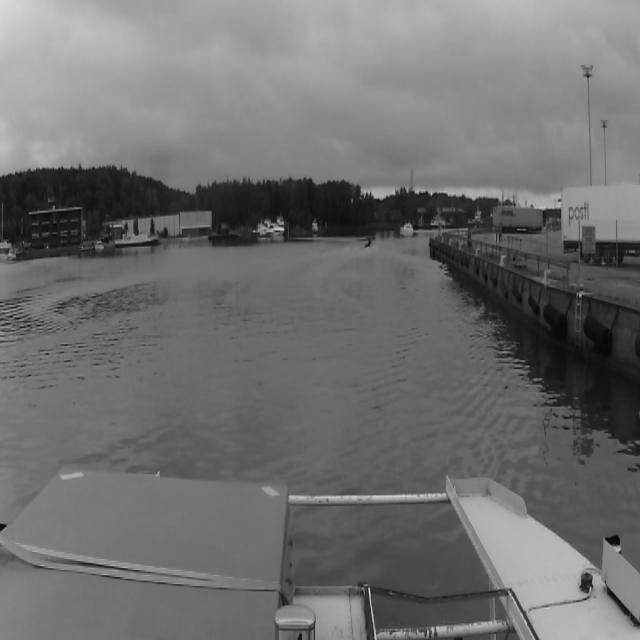ship: (115, 234, 159, 248), (253, 222, 273, 239), (273, 217, 285, 240), (400, 222, 413, 236), (95, 241, 105, 249), (365, 238, 372, 246)
